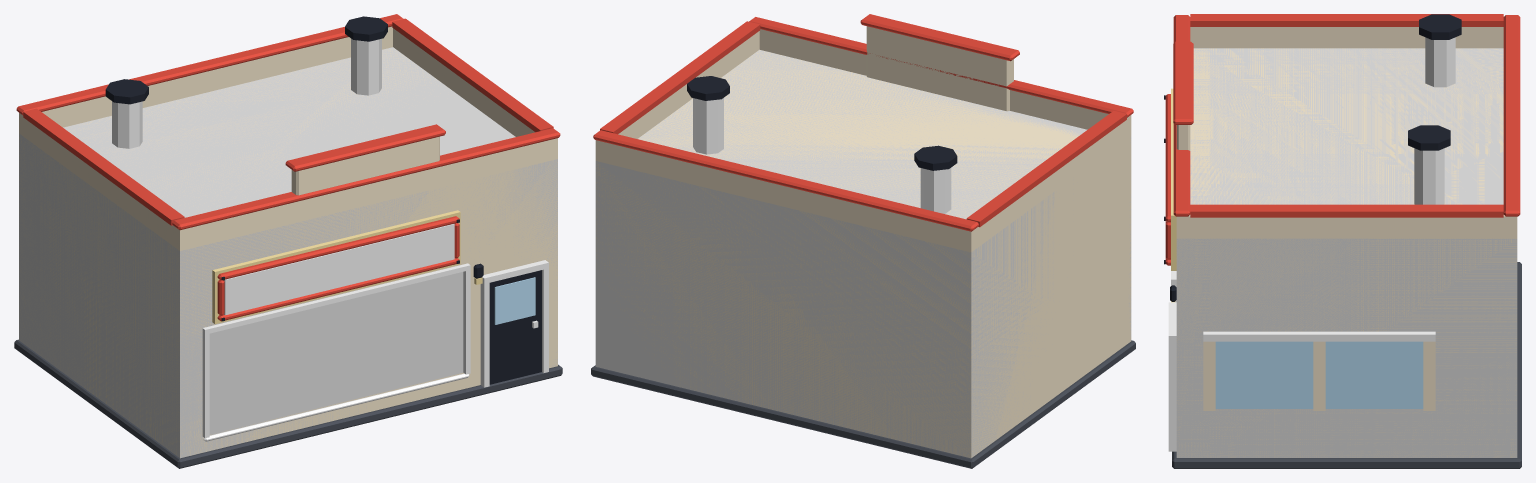
File: launderette.glb
3 views of the same model, side by side, from view 1: azimuth 30°, elevation 25°; view 2: azimuth 150°, elevation 25°; view 3: azimuth 270°, elevation 25° (orthographic). The views are drawn at different scales.
Parts seen in each view (by area): view 1: COL_body, launderette, sign_board, sign_frame; view 2: launderette, COL_body; view 3: launderette, COL_body, sign_frame.
Boxes of the visible parts, x1,y1,x2,y2 form: COL_body: (19,47,557,458); launderette: (14,14,562,468); sign_board: (224,224,454,315); sign_frame: (212,210,460,324); launderette: (591,14,1135,468); COL_body: (595,49,1131,458); launderette: (1168,14,1521,468); COL_body: (1176,48,1517,457); sign_frame: (1164,88,1176,270).
Bounding box in the file's own units: 8.62 × 5.95 × 6.51.
